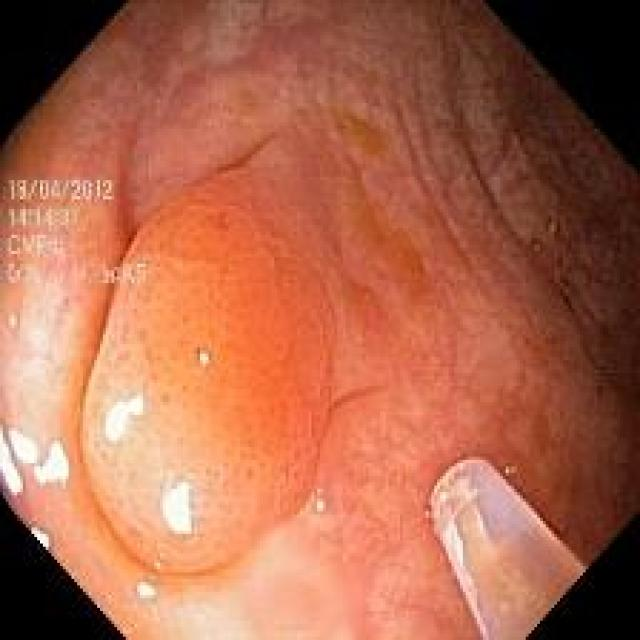Polyps: (81, 184, 331, 573)
